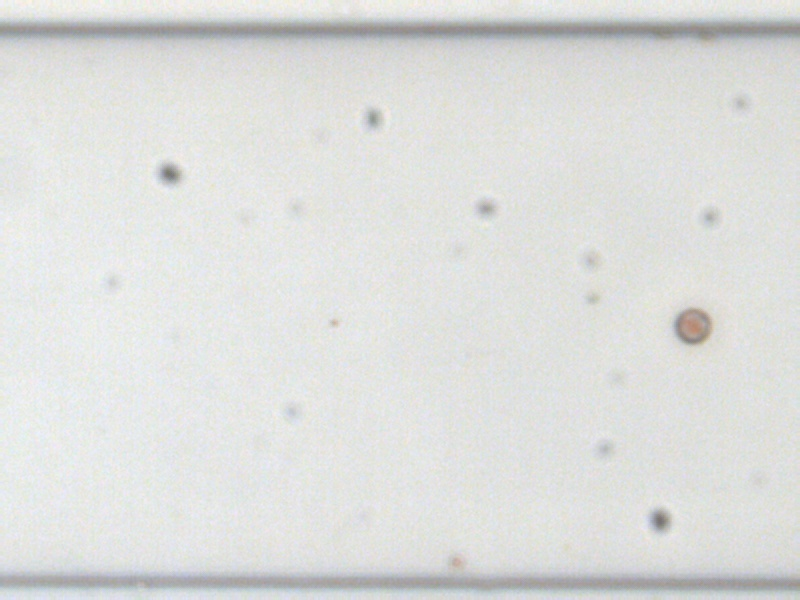Chlorella: (448, 554, 464, 568), (328, 317, 339, 328)
Porphyridium: (672, 306, 710, 345)
